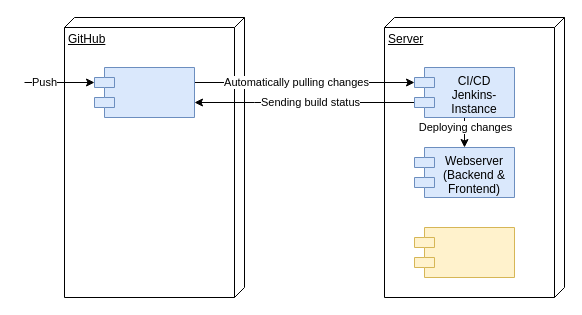
The diagram is 582 pixels wide and 315 high, and some of its shapes have lost their labels. The box of each missing label's shape, as (x1, y1, x2, y2) in pixels:
Database: (414, 226, 514, 278)
Repo: (94, 66, 194, 118)
